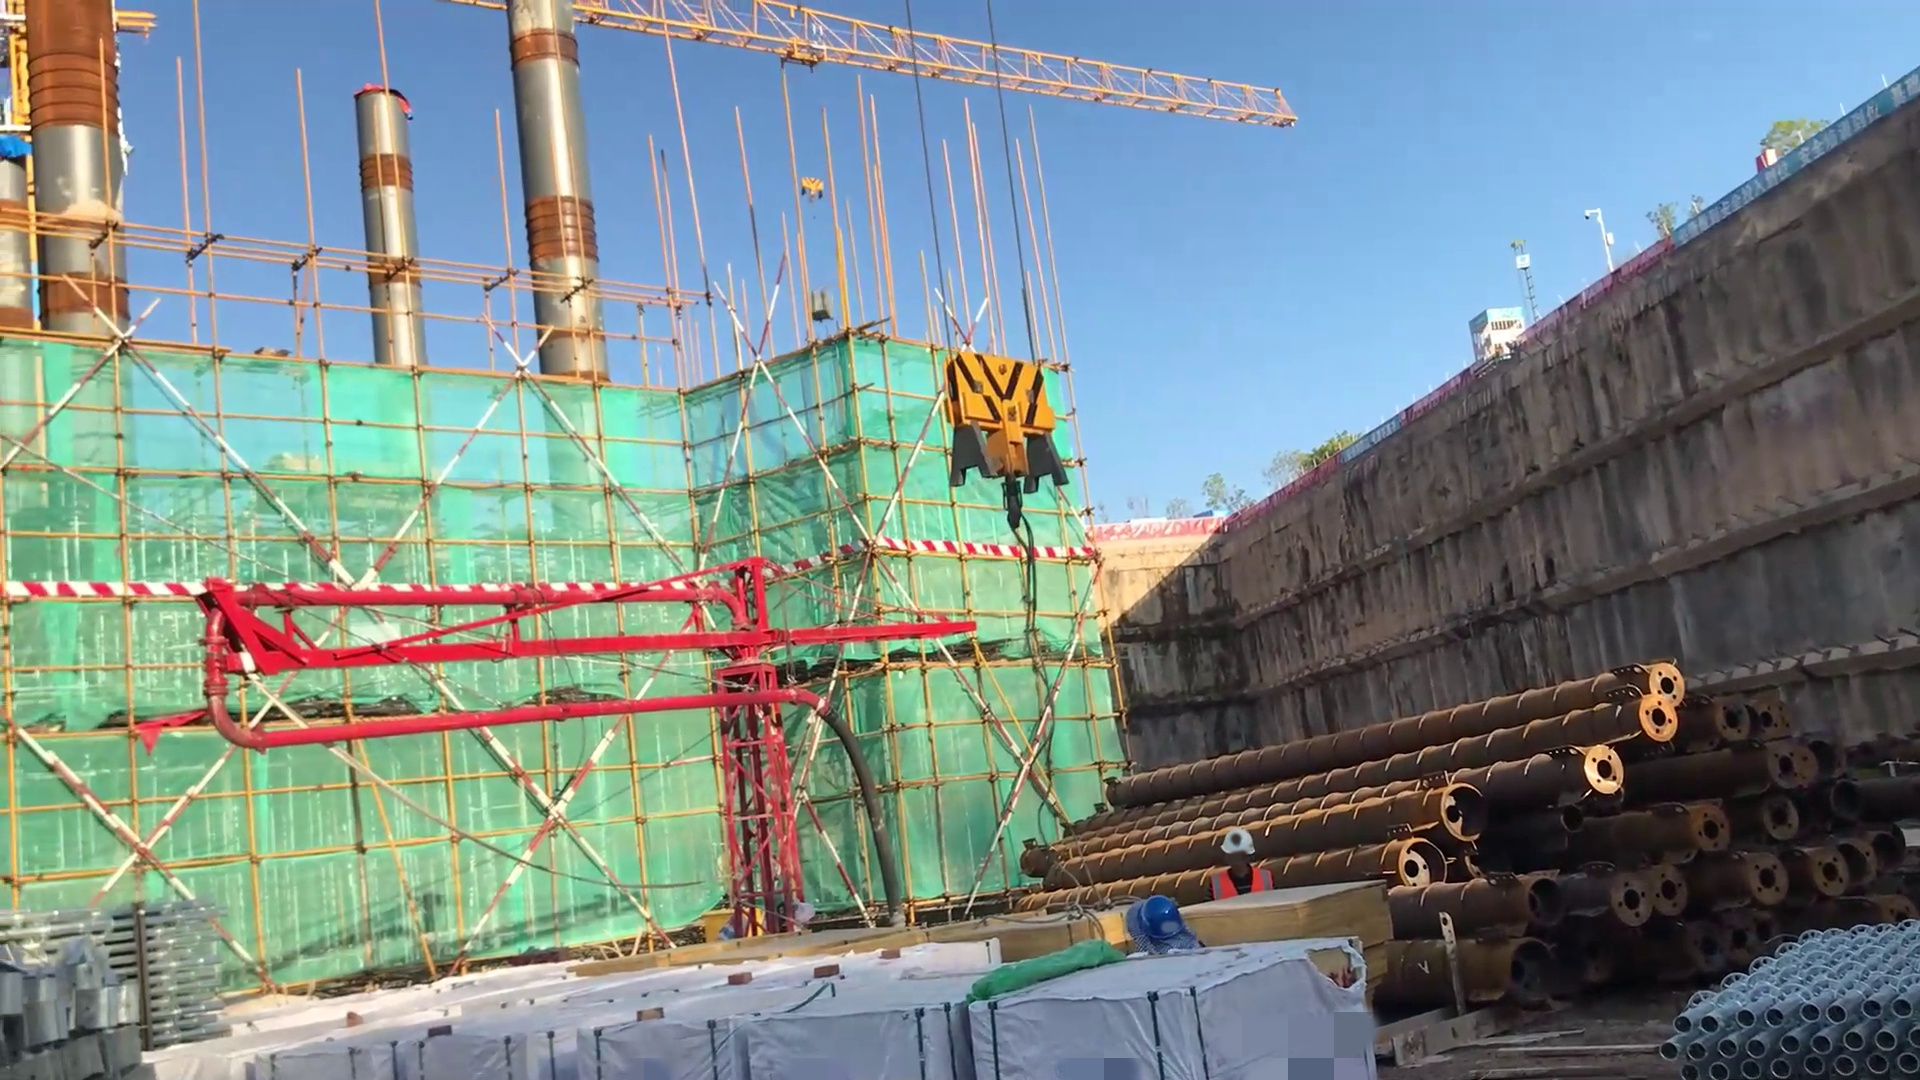board: (1177, 874, 1397, 982)
ebox: (693, 912, 783, 948)
helmet: (1115, 894, 1209, 952), (1219, 826, 1265, 859)
hook: (948, 344, 1070, 556), (781, 169, 838, 223)
person: (1203, 827, 1286, 908)
scaffold: (1655, 913, 1920, 1078), (11, 882, 247, 1051)
slogan: (1665, 57, 1920, 246), (1338, 412, 1420, 476)
vest: (1208, 866, 1278, 906)
